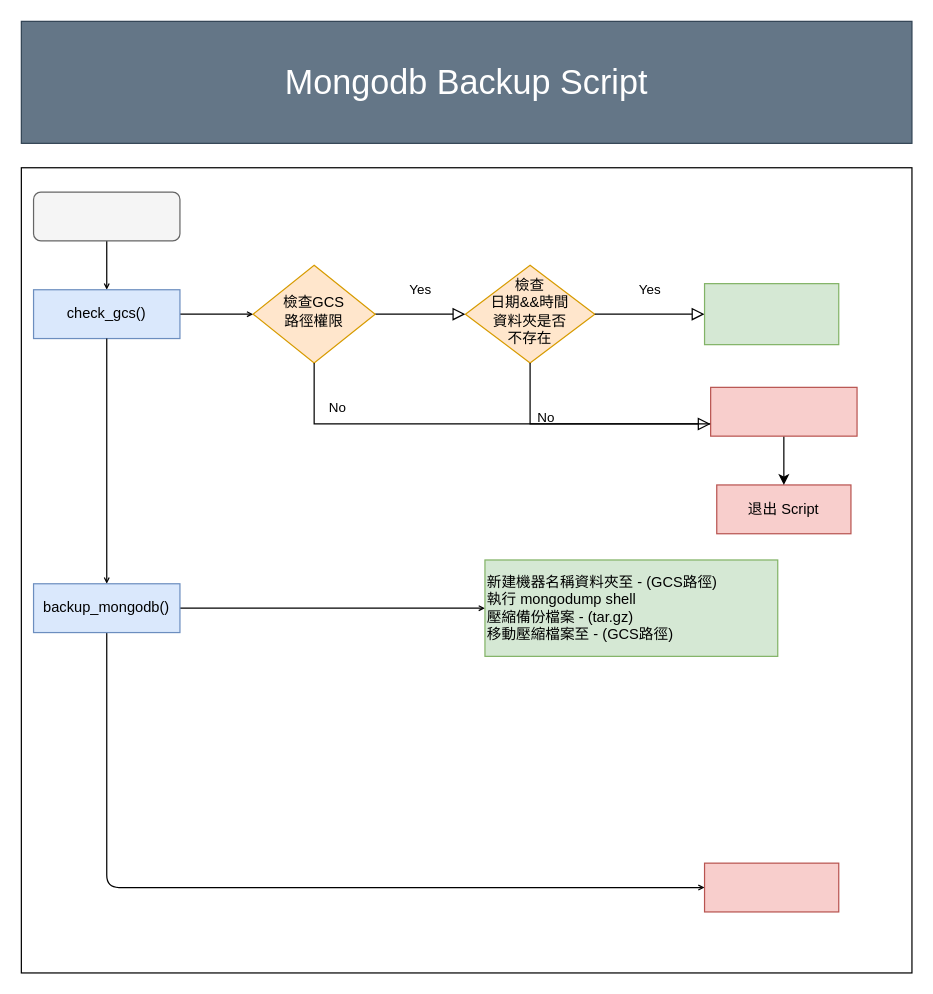
Image size: 933x994. Some labels were removed from this diagram. Here are the shapes that lost their labels. From the top down, the centre of each, then its label:
At [106,216]: "Script Start".
At [771,313]: "新建日期&&時間 資料夾在 GCS路徑裡".
At [783,411]: "紀錄不存在的檔名 至script_backup.log".
At [771,887]: "結束 Script".
